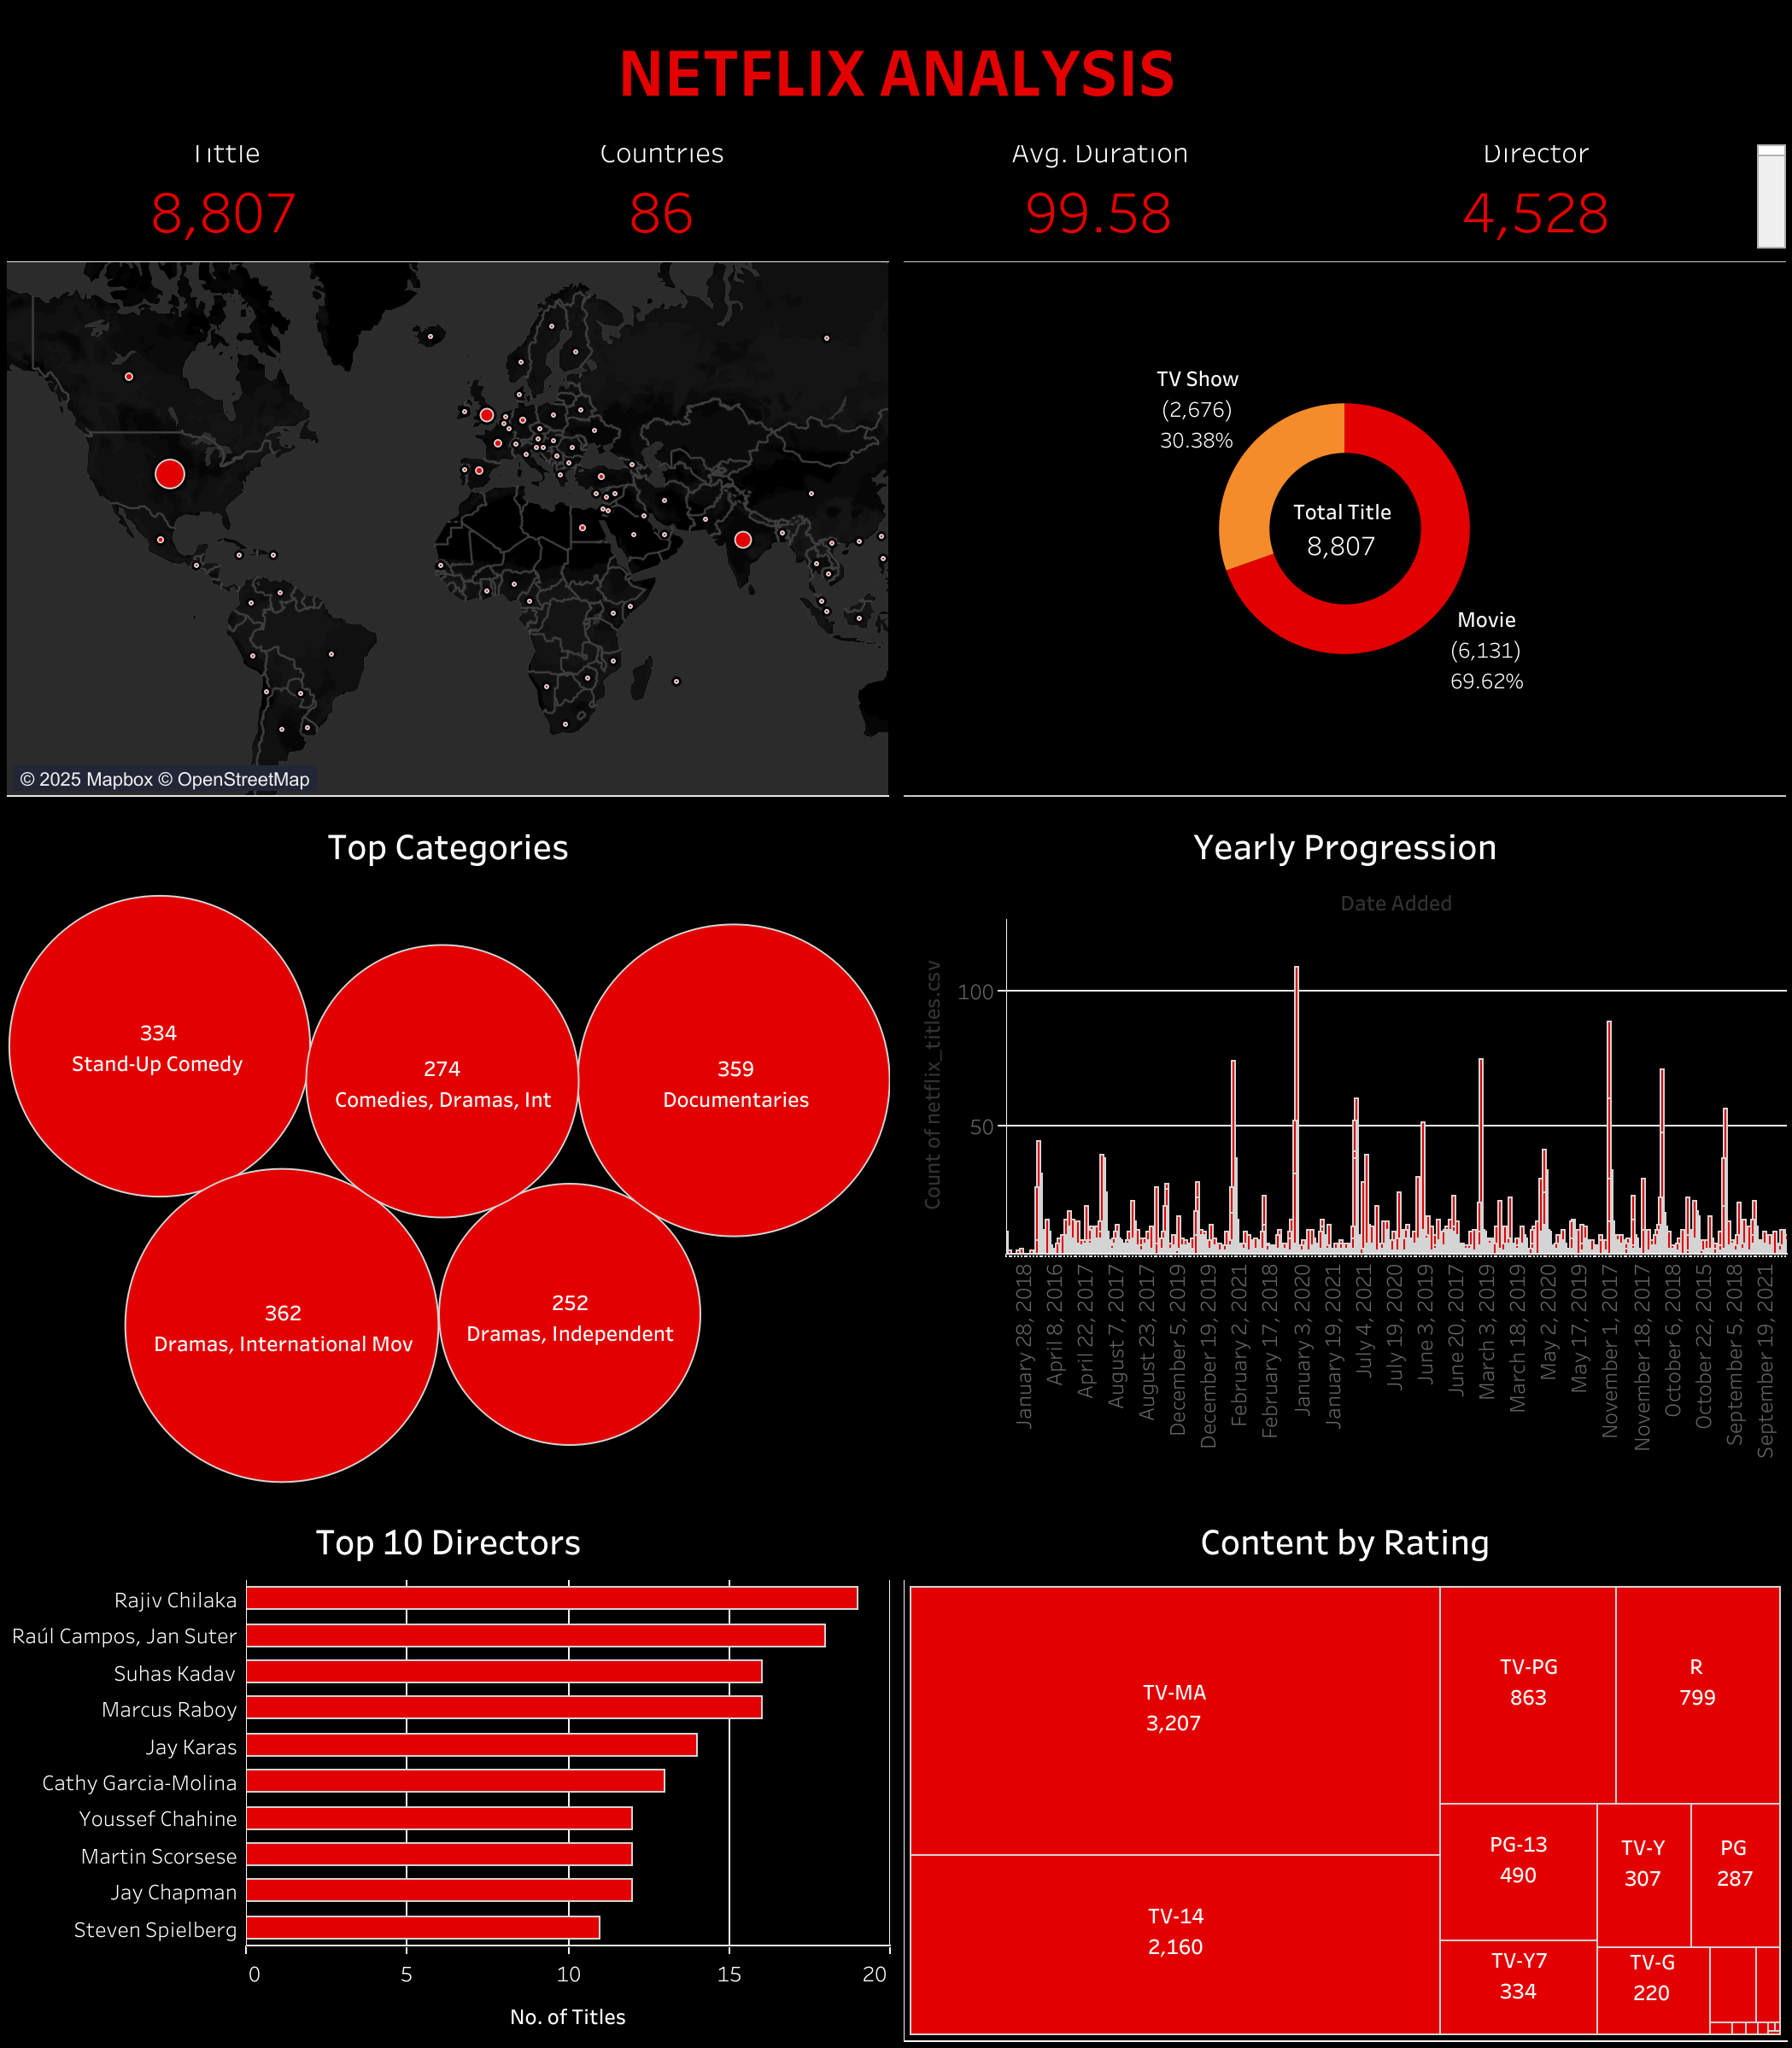

The page's visual inventory and layout, read from the dashboard file:
{"tool":"tableau","page":{"name":"NETFLIX DASHBOARD","canvas":[1050,1200],"ordinal":0},"visuals":[{"type":"text","box":[0,0,1050,81]},{"type":"worksheet","title":"KPI","mark":"Text","cols":["Calculation_1366842528453070849","Calculation_1366842528453070849","Calculation_1366842528453070849","Calculation_1366842528453070849"],"box":[0,81,1050,68]},{"type":"worksheet","title":"Country Map","mark":"Circle","box":[0,149,525,322]},{"type":"worksheet","title":"Donut chart","mark":"Pie","rows":["Calculation_1366842528453070849","Calculation_1366842528453173251"],"box":[525,149,525,322]},{"type":"worksheet","title":"Top Categories","mark":"Circle","box":[0,471,525,407]},{"type":"worksheet","title":"Yearly Progression","mark":"Bar","rows":["netflix_titles.csv_A09B25F1DE754FB198CC3E14F47D935D"],"cols":["date_added"],"box":[525,471,525,407]},{"type":"worksheet","title":"Top 10 Directors","mark":"Bar","rows":["director"],"cols":["netflix_titles.csv_A09B25F1DE754FB198CC3E14F47D935D"],"box":[0,878,525,322]},{"type":"worksheet","title":"Content by Rating","mark":"Square","box":[525,878,525,322]}]}

Visuals, with their boxes in screenshot pixels (x1, y1, x2, y2), scaled from the page's 1050x1200 canvas onto the 1792x2048 screenshot:
text: BBox(0, 0, 1791, 138)
"KPI" worksheet (Text marks): BBox(0, 138, 1791, 255)
"Country Map" worksheet (Circle marks): BBox(0, 255, 896, 804)
"Donut chart" worksheet (Pie marks): BBox(896, 255, 1791, 804)
"Top Categories" worksheet (Circle marks): BBox(0, 804, 896, 1499)
"Yearly Progression" worksheet (Bar marks): BBox(896, 804, 1791, 1499)
"Top 10 Directors" worksheet (Bar marks): BBox(0, 1499, 896, 2047)
"Content by Rating" worksheet (Square marks): BBox(896, 1499, 1791, 2047)
